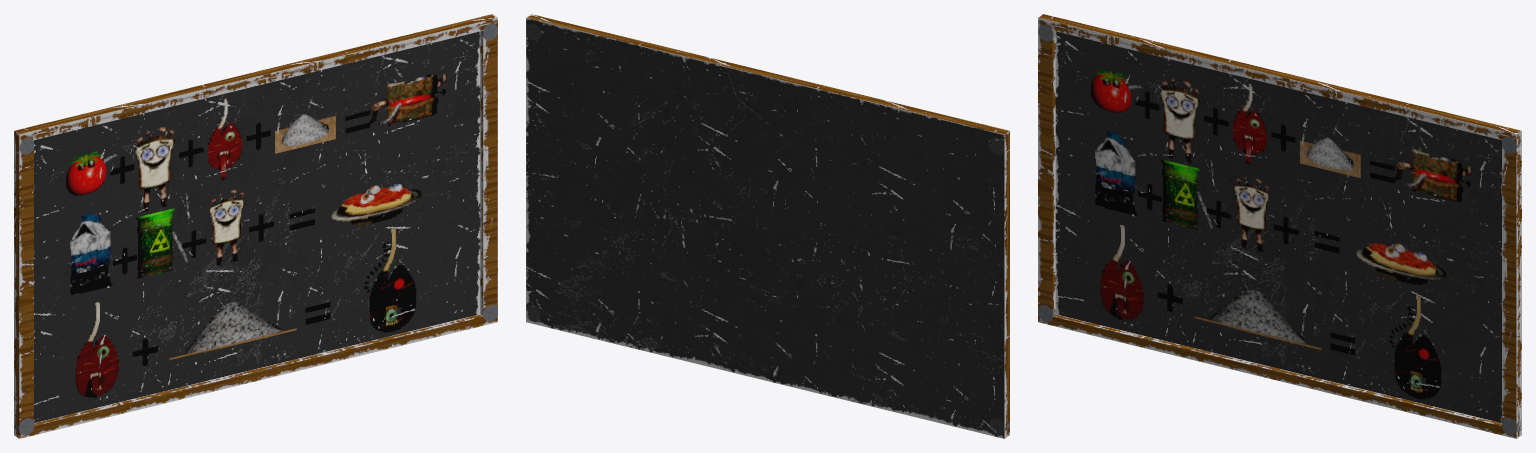
Rendered from ingredient board.fbx.
3 views of the same model, side by side, from view 1: azimuth 30°, elevation 25°; view 2: azimuth 150°, elevation 25°; view 3: azimuth 330°, elevation 25° (orthographic).
Visible parts, largest first — view 1: Cube; view 2: Cube; view 3: Cube.
Part boxes in pixels (box(x1,y1,x2,y2)): Cube: box(14, 14, 497, 438); Cube: box(526, 14, 1009, 438); Cube: box(1038, 14, 1521, 438).
Bounding box in the file's own units: 1140 × 693 × 21.81.
